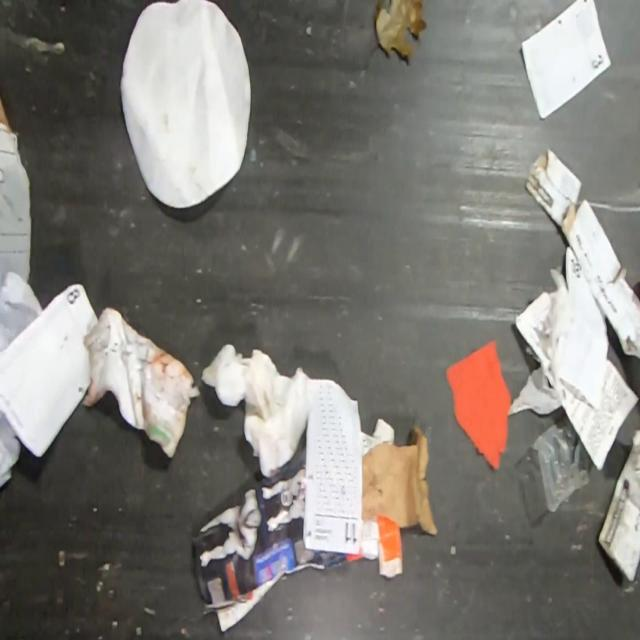cardboard: (360, 422, 436, 532)
rigid_plastic: (533, 414, 590, 512)
